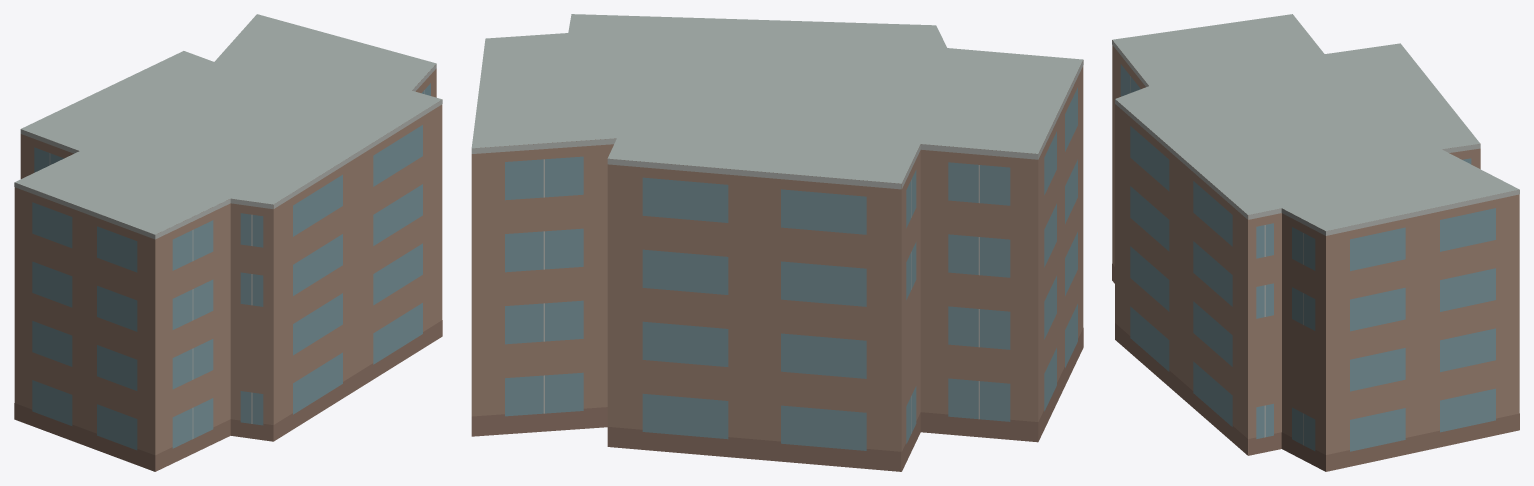
The model's file is residential-2b8c9295-4396-44d2-a2eb-57c1c32f11ed.glb.
The picture shows the model from 3 angles, left to right: view 1: azimuth 30°, elevation 25°; view 2: azimuth 150°, elevation 25°; view 3: azimuth 270°, elevation 25°; orthographic projection. The views are drawn at different scales.
Visible parts, largest first — view 1: residential-2b8c9295-4396-44d2-a2eb-57c1c32f11ed.tmp; view 2: residential-2b8c9295-4396-44d2-a2eb-57c1c32f11ed.tmp; view 3: residential-2b8c9295-4396-44d2-a2eb-57c1c32f11ed.tmp.
Boxes of the visible parts, <box> form: residential-2b8c9295-4396-44d2-a2eb-57c1c32f11ed.tmp: <box>14,14,442,471</box>; residential-2b8c9295-4396-44d2-a2eb-57c1c32f11ed.tmp: <box>471,14,1083,471</box>; residential-2b8c9295-4396-44d2-a2eb-57c1c32f11ed.tmp: <box>1112,14,1519,471</box>.
Size of the model in its own units: 23.62 by 12.2 by 18.73.
